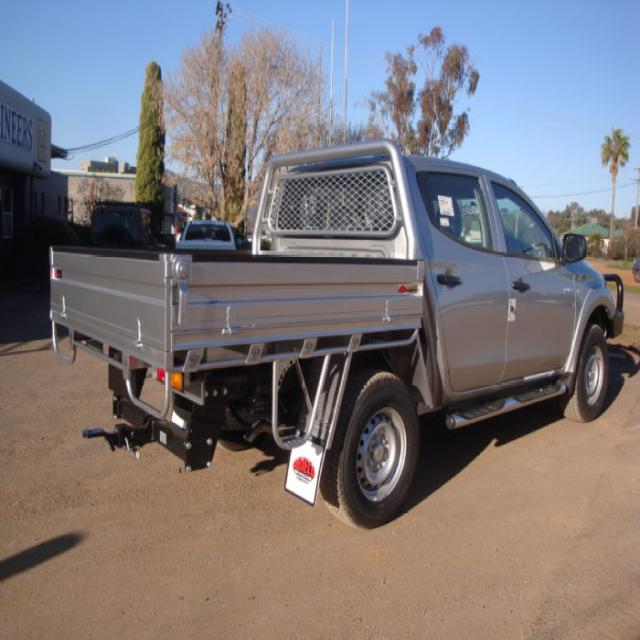light_vehicle: (38, 133, 638, 527)
